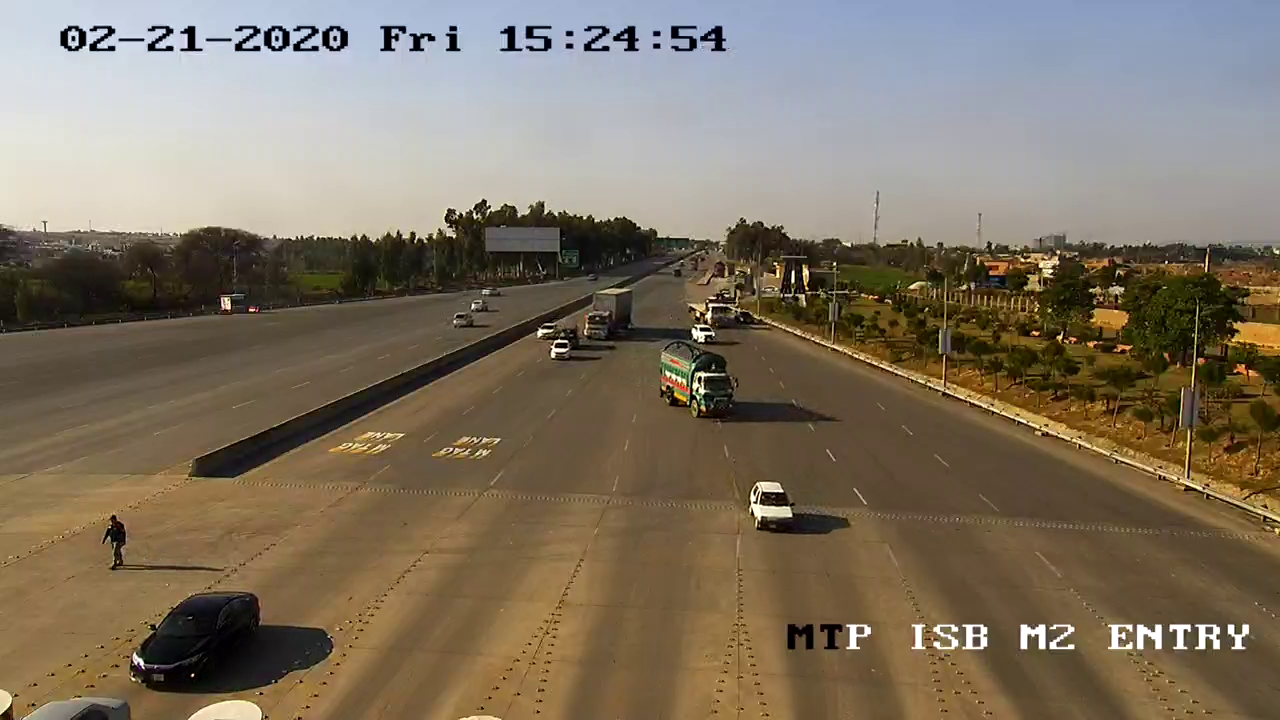f1: (124, 570, 267, 698), (745, 473, 806, 541)
f5: (650, 331, 740, 421)
